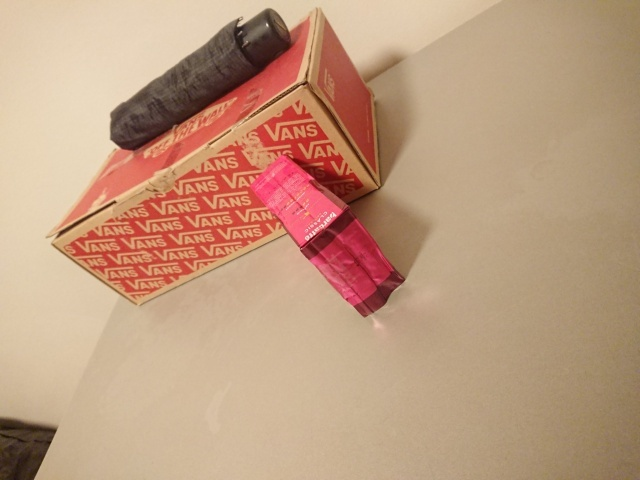Barcaffe Classic Original 225g: (246, 152, 408, 320)
